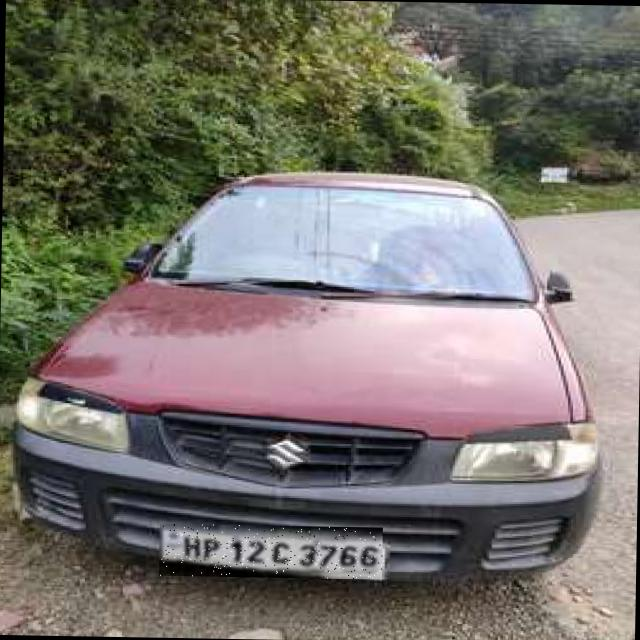Plate: (160, 524, 384, 580)
